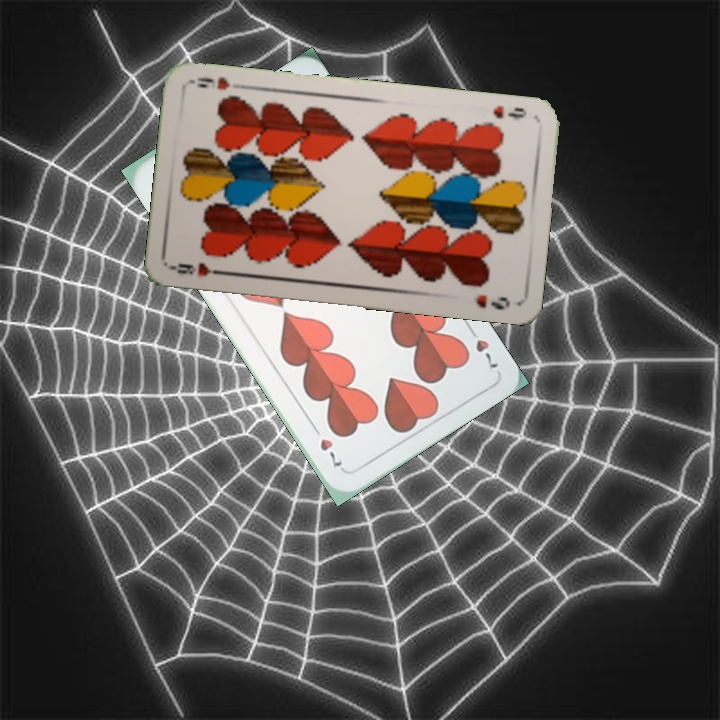H7: (463, 320, 501, 371)
H9: (169, 258, 228, 279), (488, 101, 529, 121)
